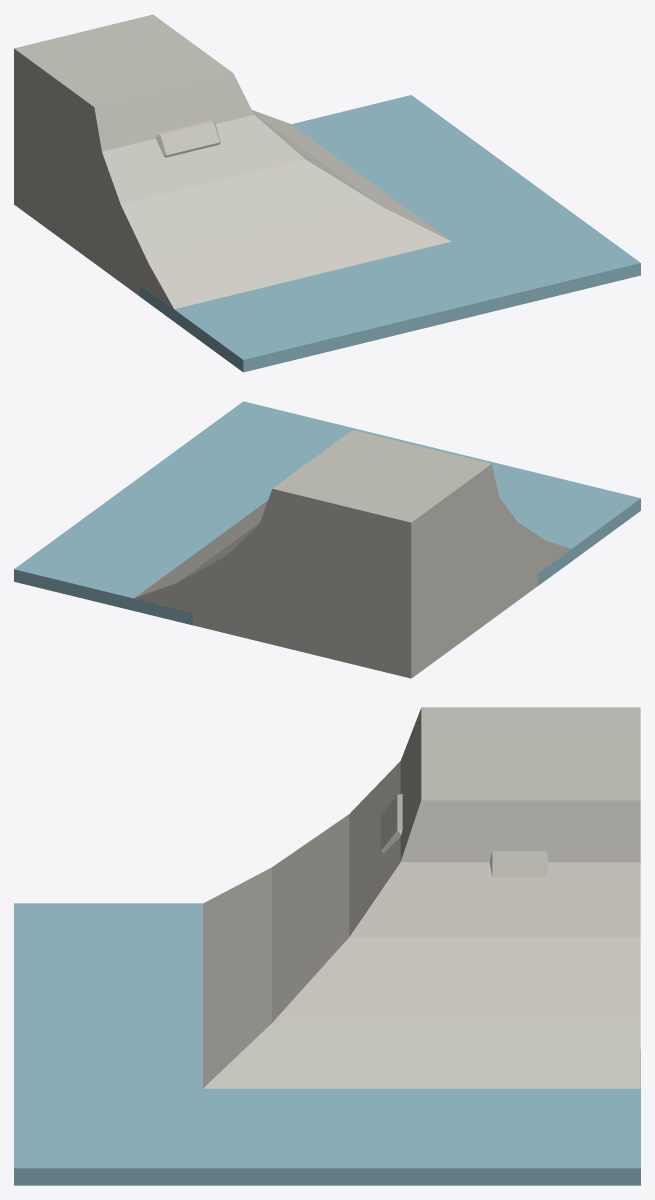
Rendered from feudal-japan-castle-town-moat-edge-corner-9e9eac82__26589.glb.
The picture shows the model from 3 angles, top to bottom: view 1: azimuth 30°, elevation 25°; view 2: azimuth 150°, elevation 25°; view 3: azimuth 270°, elevation 25°; orthographic projection. The views are drawn at different scales.
Parts seen in each view (by area): view 1: moat-edge-corner; view 2: moat-edge-corner; view 3: moat-edge-corner.
Part boxes in pixels (left/top/right/bottom): moat-edge-corner: left=14, top=14, right=640, bottom=372; moat-edge-corner: left=14, top=401, right=640, bottom=678; moat-edge-corner: left=14, top=707, right=640, bottom=1185.
Size of the model in its own units: 4 by 1.5 by 4.
